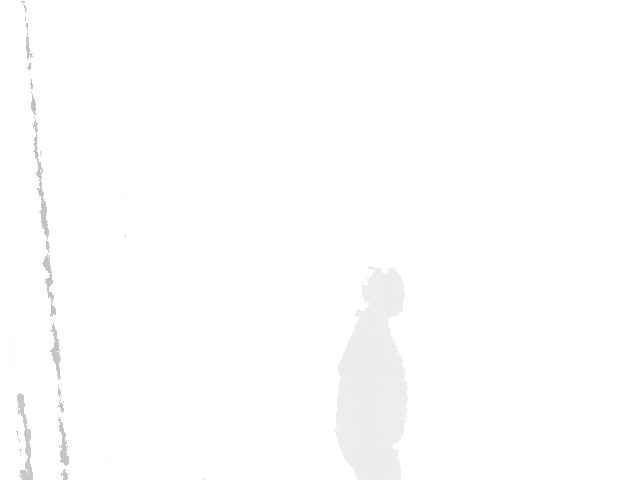head: (359, 268, 404, 321)
person: (335, 267, 410, 480)
